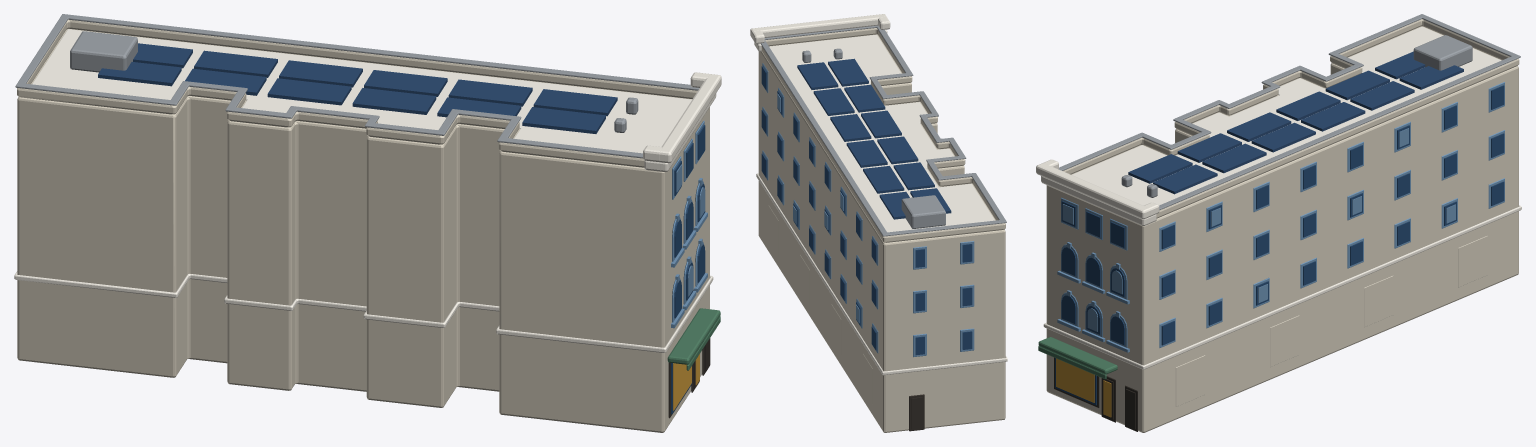
The model's file is 102-south-park.glb.
3 renders of one model, left to right at view 1: azimuth 30°, elevation 25°; view 2: azimuth 150°, elevation 25°; view 3: azimuth 270°, elevation 25°, orthographic. The views are drawn at different scales.
Parts seen in each view (by area): view 1: grp_Toy_stone, grp_Toy_navy, roof_deck, grp_Toy_steel, grp_Toy_trim, grp_Toy_glassl, grp_Toy_glass, grp_Toy_awning, grp_Toy_mustard_Glow; view 2: grp_Toy_stone, roof_deck, grp_Toy_navy, grp_Toy_steel, grp_Toy_glass, grp_Toy_trim, grp_Toy_glassl, grp_Toy_ink, grp_Toy_glassl_Glow; view 3: grp_Toy_stone, grp_Toy_navy, roof_deck, grp_Toy_glass, grp_Toy_steel, grp_Toy_glassl, grp_Toy_trim, grp_Toy_glassl_Glow, grp_Toy_mustard_Glow, grp_Toy_awning, grp_Toy_ink.
Boxes of the visible parts, <box> form: grp_Toy_stone: <box>17,19,709,432</box>; grp_Toy_navy: <box>98,43,617,133</box>; roof_deck: <box>32,29,691,153</box>; grp_Toy_steel: <box>15,14,699,158</box>; grp_Toy_trim: <box>14,72,721,352</box>; grp_Toy_glassl: <box>671,121,707,328</box>; grp_Toy_glass: <box>671,125,705,414</box>; grp_Toy_awning: <box>667,308,720,370</box>; grp_Toy_mustard_Glow: <box>673,354,699,410</box>; grp_Toy_stone: <box>758,28,1005,432</box>; roof_deck: <box>769,34,994,232</box>; grp_Toy_navy: <box>797,58,951,219</box>; grp_Toy_steel: <box>760,25,1006,236</box>; grp_Toy_glass: <box>761,66,972,355</box>; grp_Toy_trim: <box>750,14,1007,375</box>; grp_Toy_glassl: <box>762,63,974,357</box>; grp_Toy_ink: <box>909,394,924,431</box>; grp_Toy_glassl_Glow: <box>777,93,859,323</box>; grp_Toy_stone: <box>1046,19,1519,432</box>; grp_Toy_navy: <box>1128,51,1463,194</box>; roof_deck: <box>1072,26,1500,205</box>; grp_Toy_glass: <box>1055,85,1504,405</box>; grp_Toy_steel: <box>1059,14,1520,210</box>; grp_Toy_glassl: <box>1057,82,1504,352</box>; grp_Toy_trim: <box>1036,159,1521,369</box>; grp_Toy_glassl_Glow: <box>1062,128,1455,331</box>; grp_Toy_mustard_Glow: <box>1056,358,1111,417</box>; grp_Toy_awning: <box>1038,337,1117,379</box>; grp_Toy_ink: <box>1054,357,1137,431</box>.
Bounding box in the file's own units: 27.25 × 14 × 27.15.
